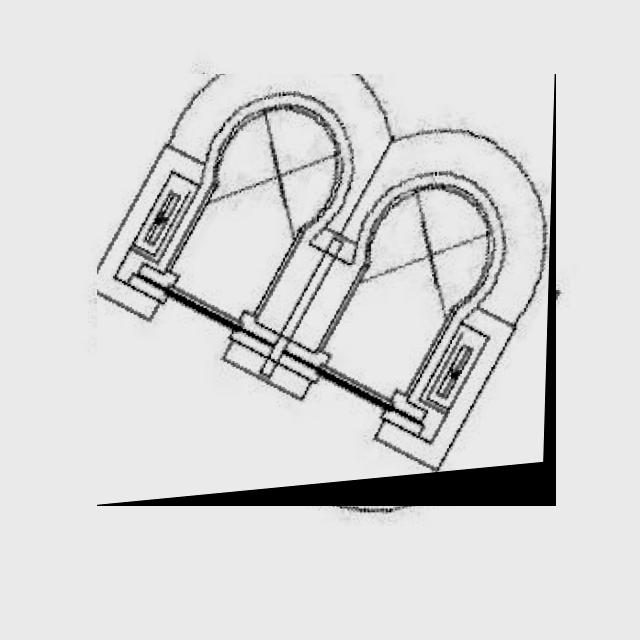lift: (97, 74, 556, 506)
